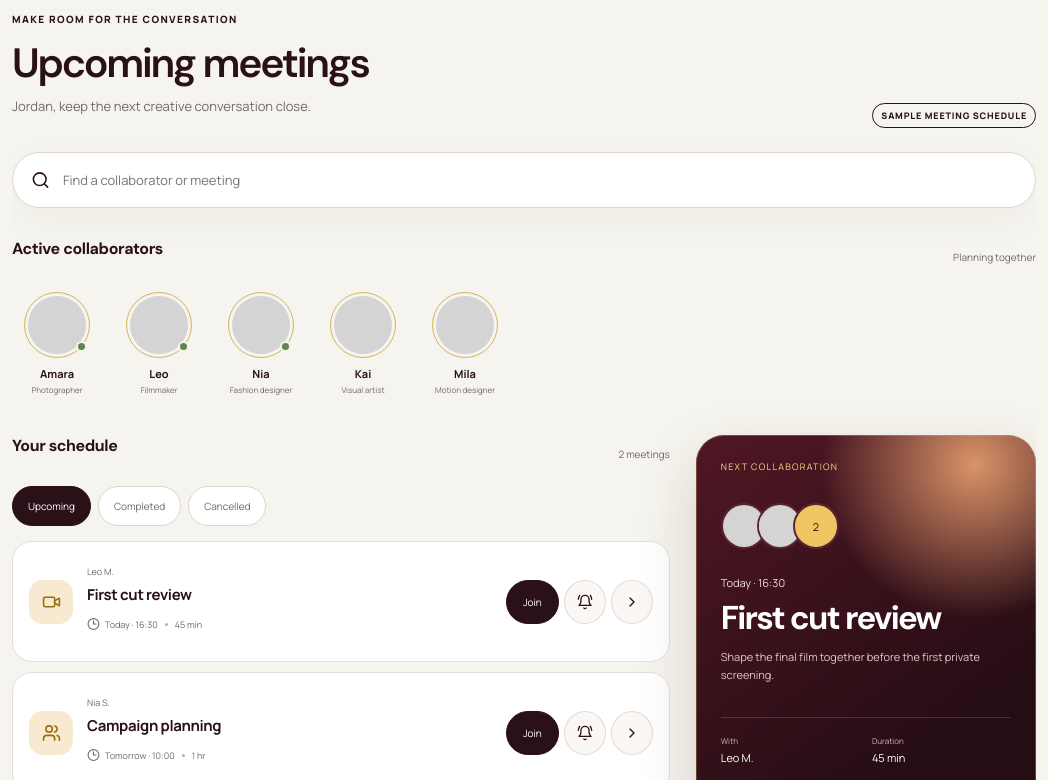
Scenario: Dashboard meetings › filters meetings by collaborator without leaking unrelated results
The image size is (1048, 780).
Type "Leo" into the field labelled "Find a collaborator or meeting" at (544, 180), box [61, 170, 1026, 190]
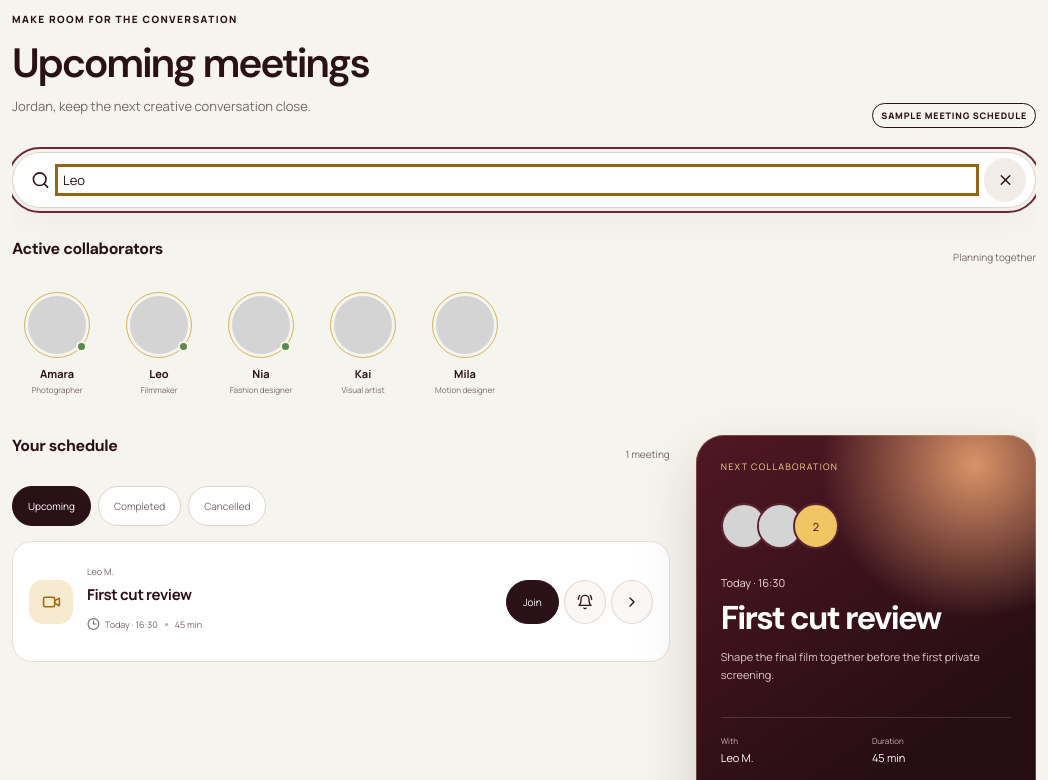
Check: the heading "First cut review" below "Your schedule" is shown, box [87, 584, 192, 605]
Check: the heading "Campaign planning" is gone
